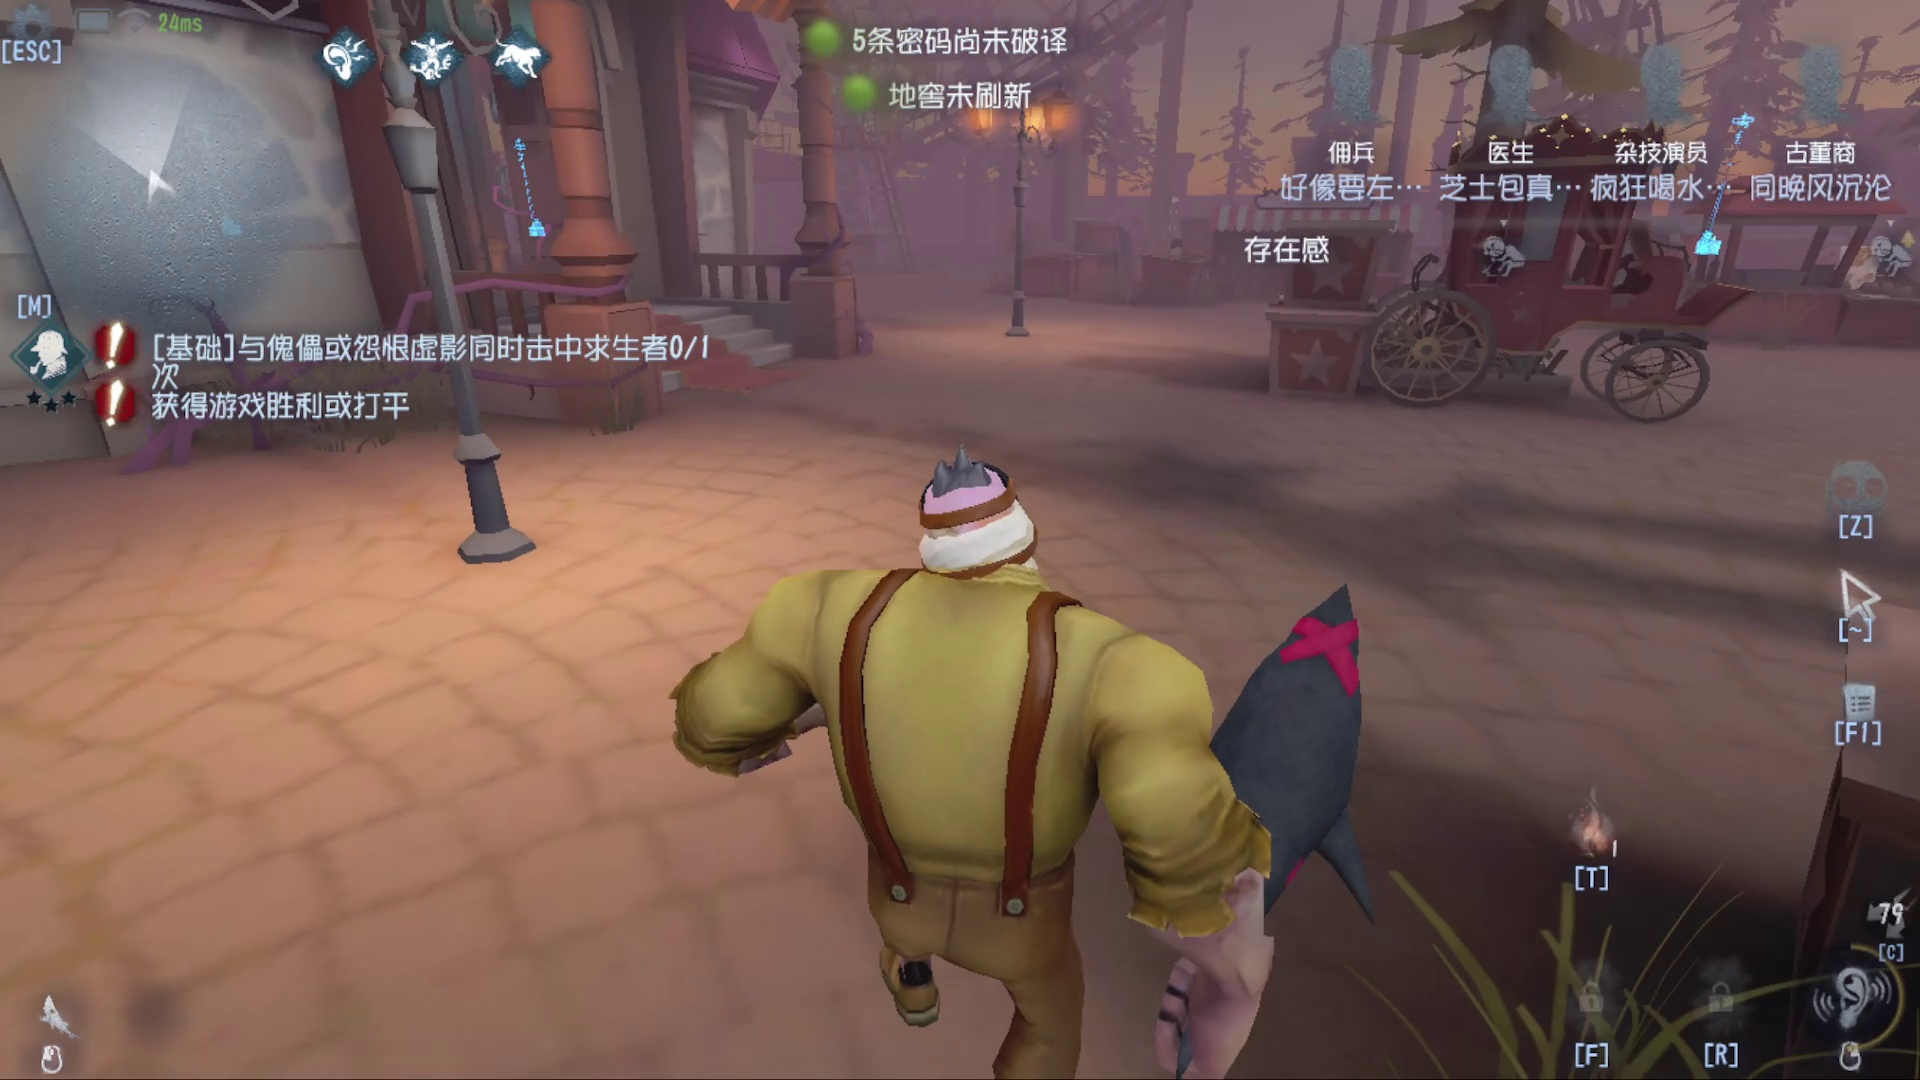密码机: (1692, 108, 1763, 269), (483, 127, 562, 248), (191, 121, 256, 240)
木板: (1113, 214, 1149, 306)
